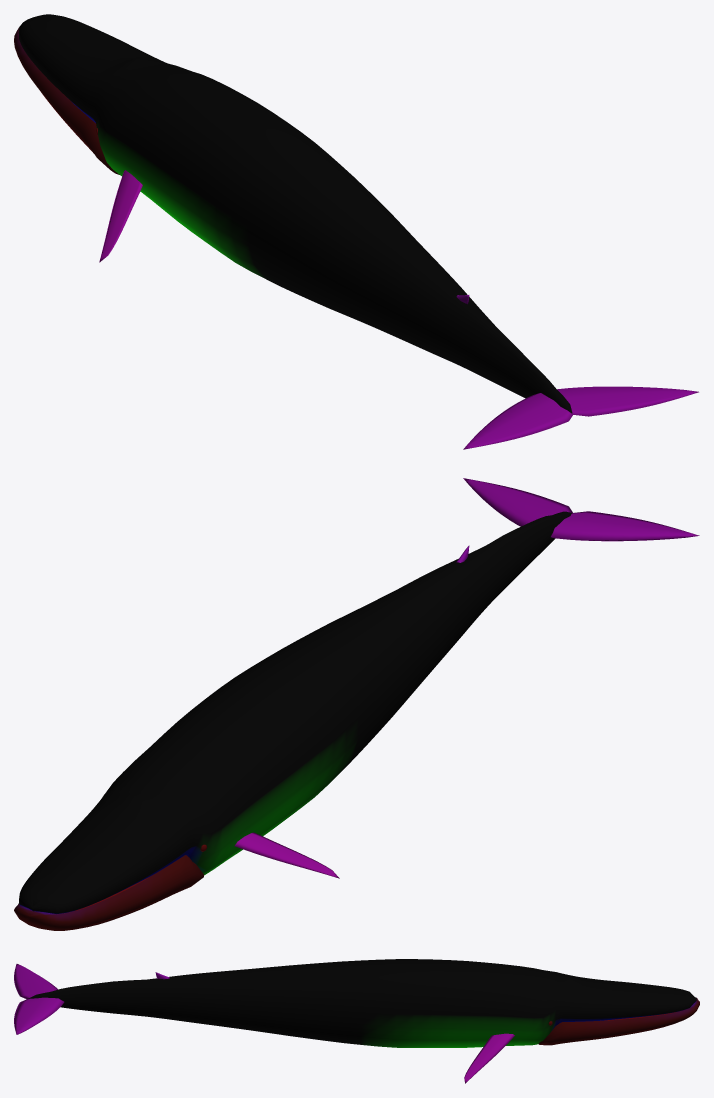
Rendered from blue_whale_lo.glb.
3 views of the same model, one above another, from view 1: azimuth 30°, elevation 25°; view 2: azimuth 150°, elevation 25°; view 3: azimuth 270°, elevation 25° (orthographic). The views are drawn at different scales.
Parts seen in each view (by area): view 1: blue_whale_lo; view 2: blue_whale_lo; view 3: blue_whale_lo.
Boxes of the visible parts, x1,y1,x2,y2 form: blue_whale_lo: (14,14,698,449); blue_whale_lo: (14,478,699,930); blue_whale_lo: (14,959,699,1083).
Bounding box in the file's own units: 6.35 × 3.4 × 25.27.
